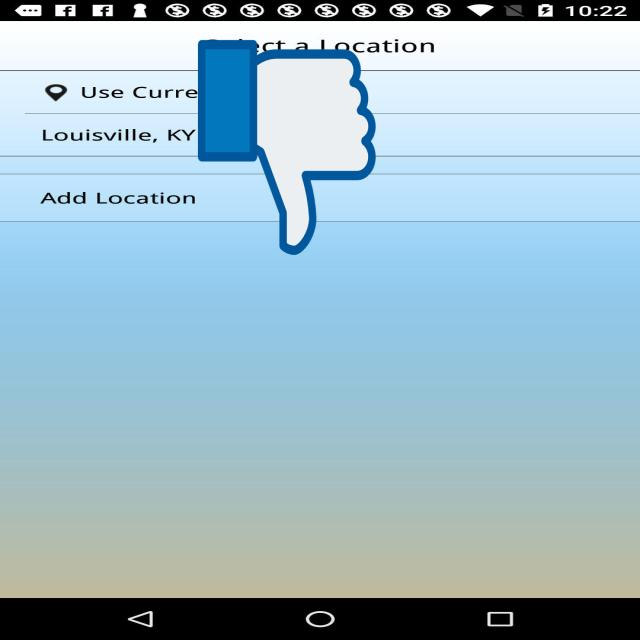obstruction: (198, 35, 376, 260)
